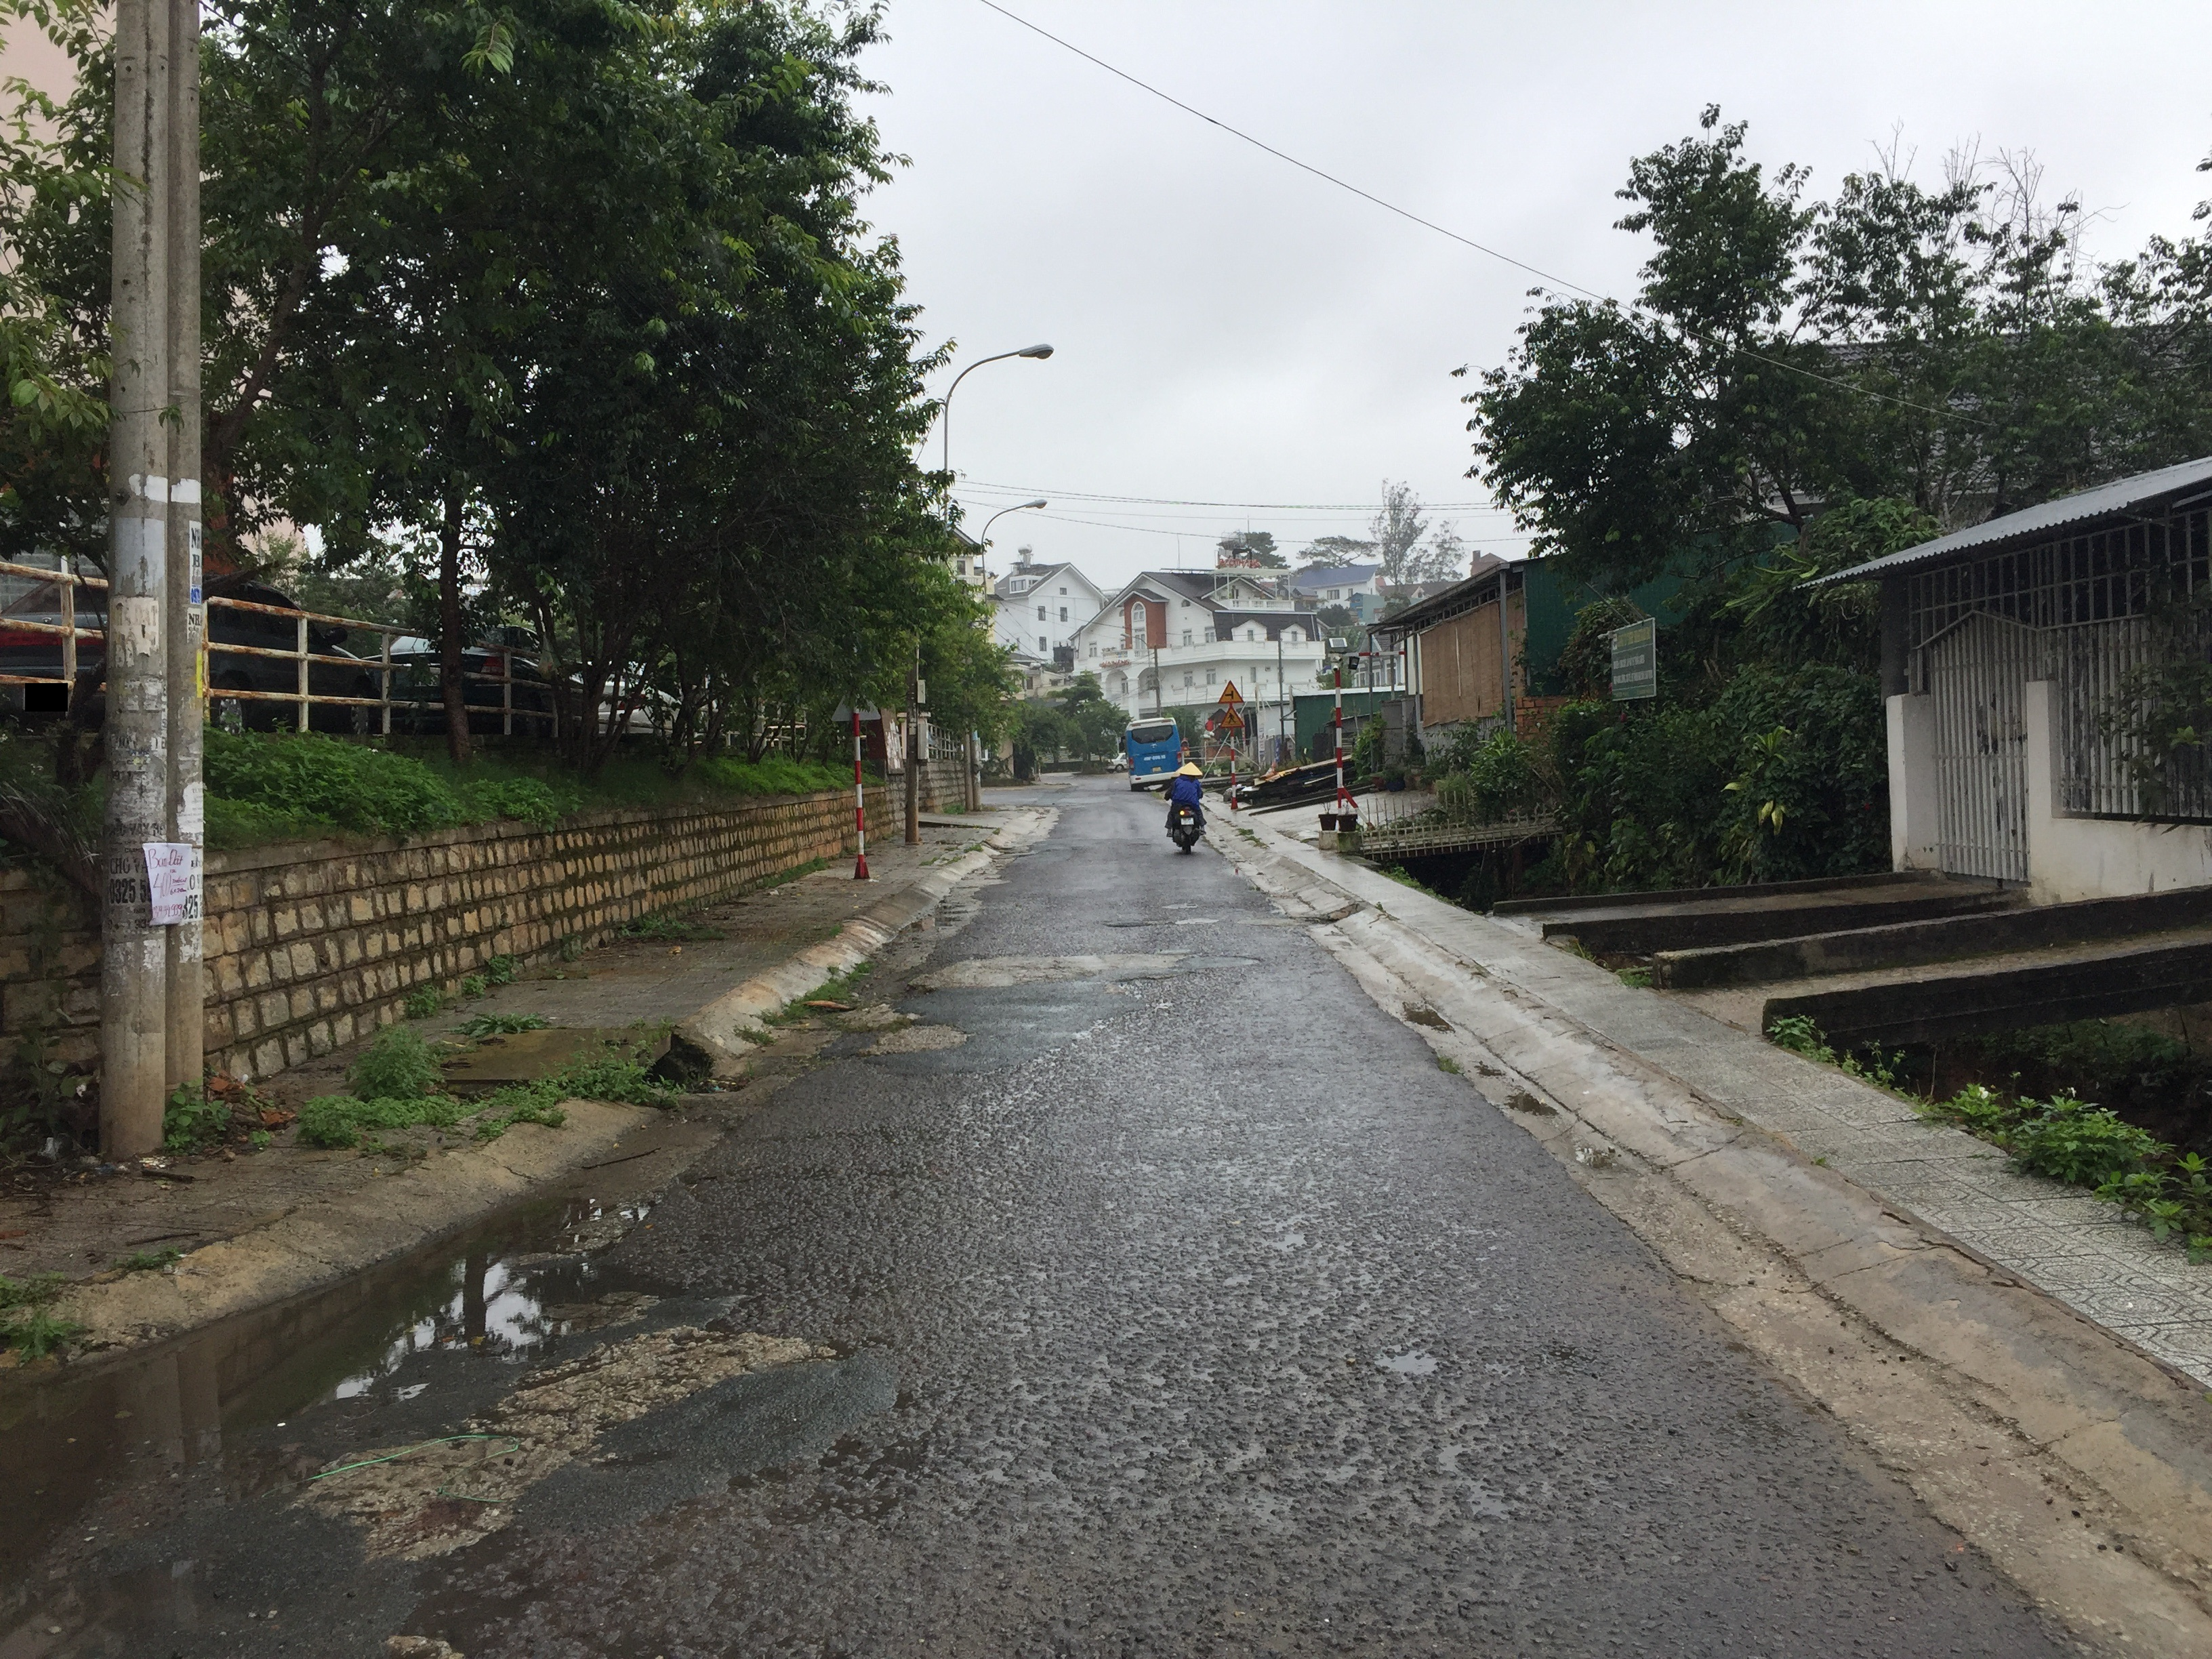hole: (510, 1269, 683, 1323), (401, 1584, 503, 1656), (862, 1025, 972, 1060), (820, 1000, 920, 1026), (578, 1443, 679, 1466), (857, 971, 935, 997), (1172, 951, 1264, 971), (1090, 918, 1170, 927), (1240, 918, 1306, 925), (1163, 903, 1200, 910), (1176, 918, 1219, 924)
